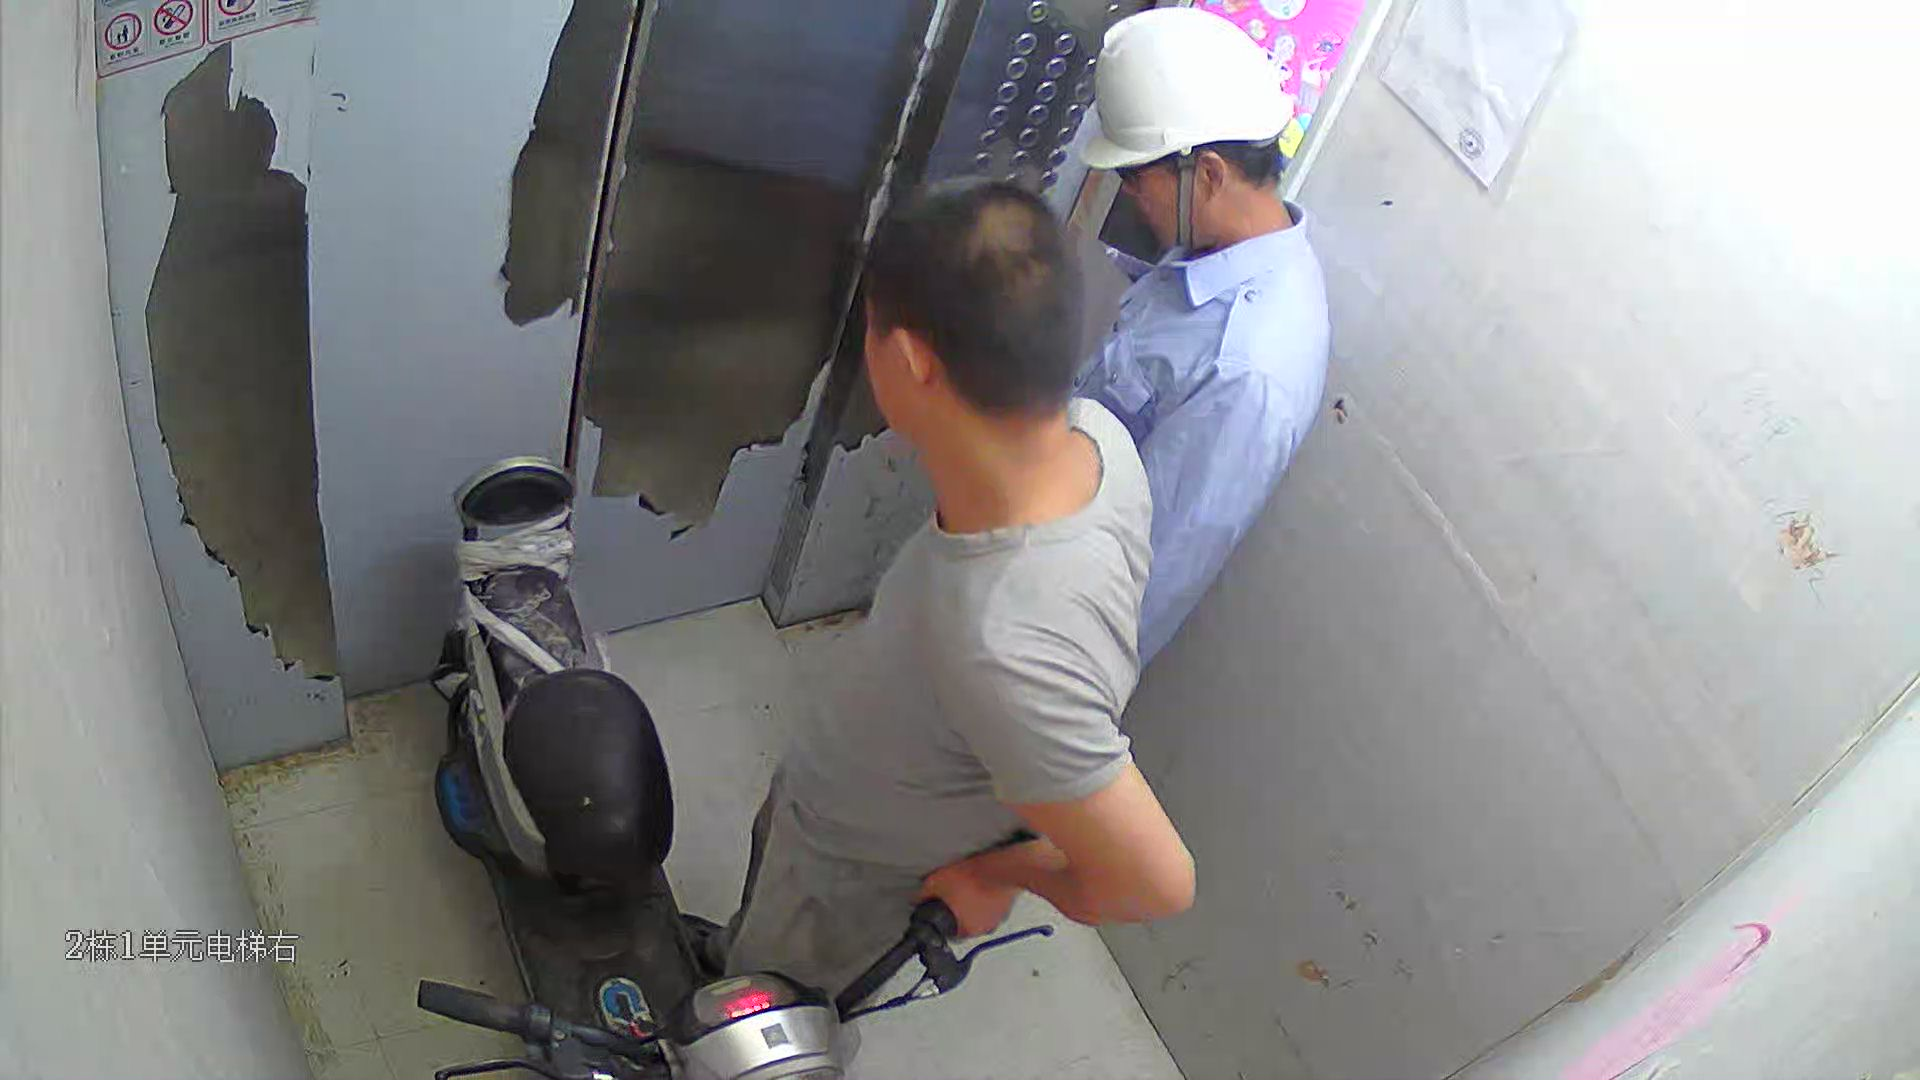Electric-bicycle: (411, 459, 1054, 1080)
